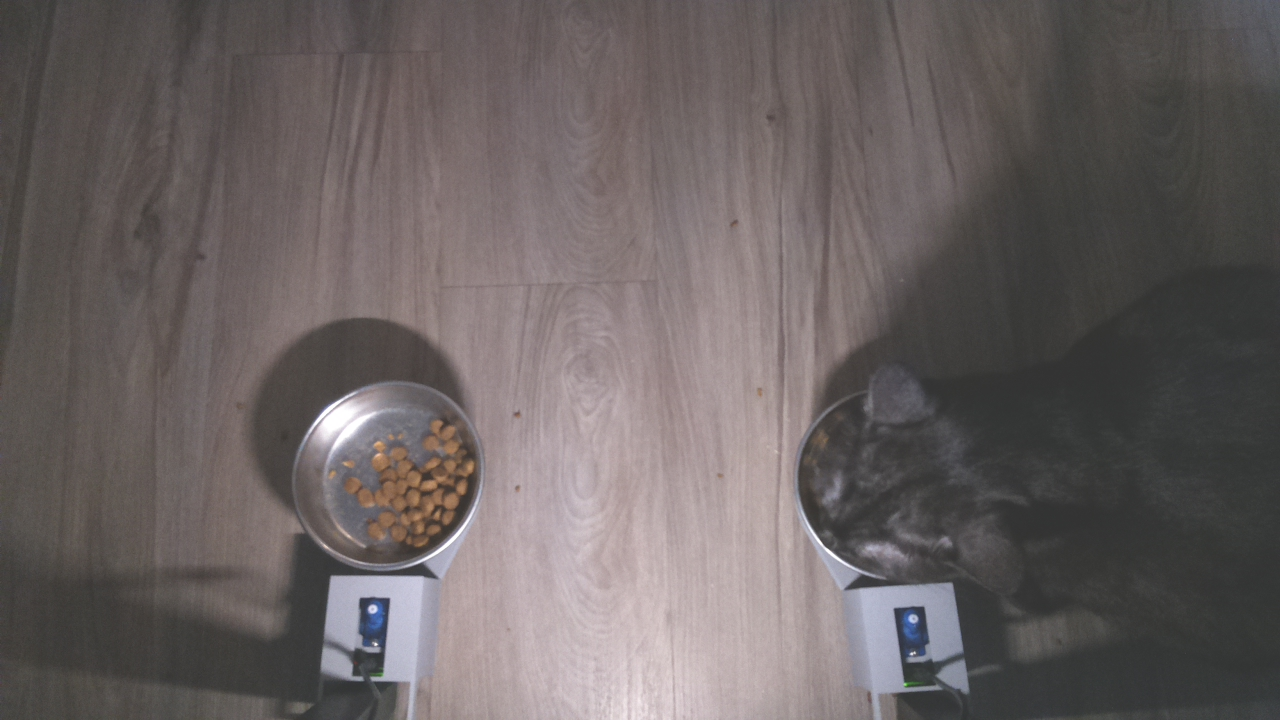open_bowl: (287, 378, 486, 580)
saki_eating: (792, 357, 1045, 592)
